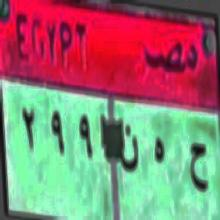2: (21, 100, 37, 154)
7aa: (188, 134, 211, 195)
9: (50, 107, 66, 165), (76, 116, 94, 163)
haa: (150, 129, 168, 173)
noon: (118, 114, 140, 182)
